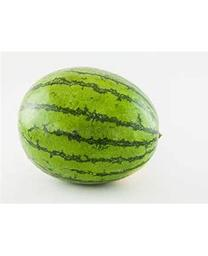watermelon: (14, 67, 161, 189)
